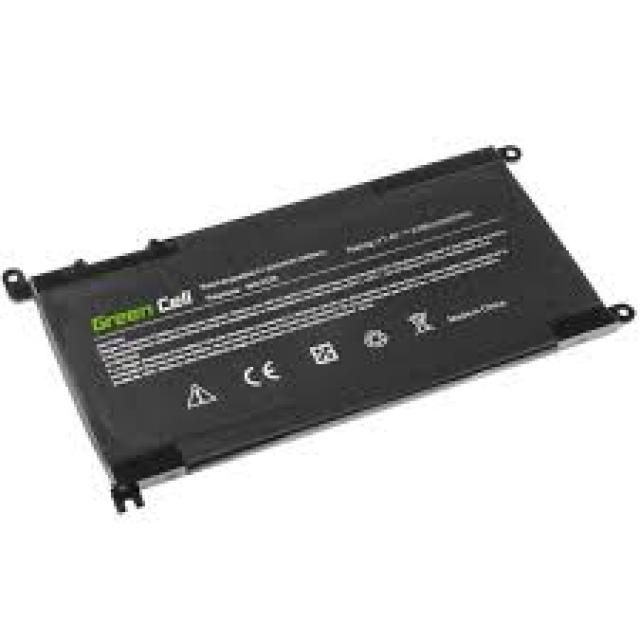Battery: (3, 140, 640, 548)
